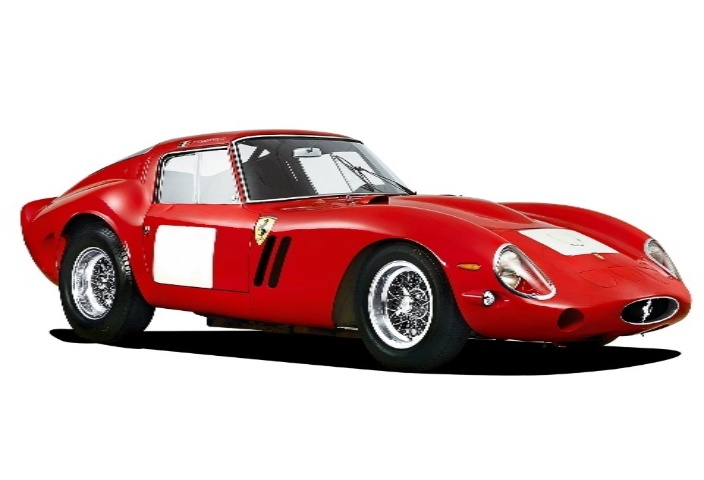car: (19, 110, 696, 355)
